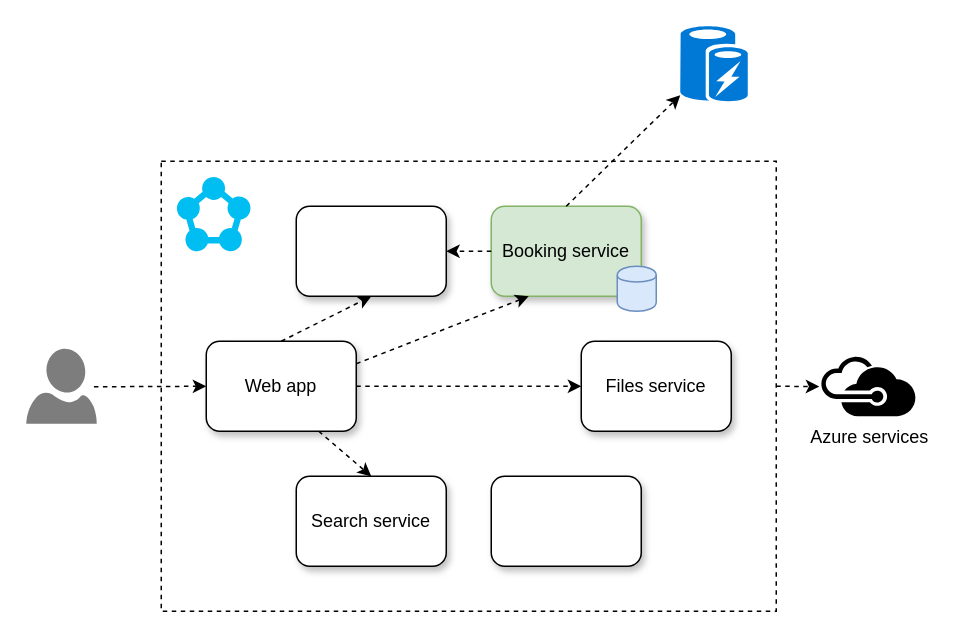
Image size: 953x638. Some labels were removed from this diagram. Each missing label, with the centre of its shape:
Facility service: point (372, 253)
Redis: point (713, 63)
Search indexer: point (567, 523)
